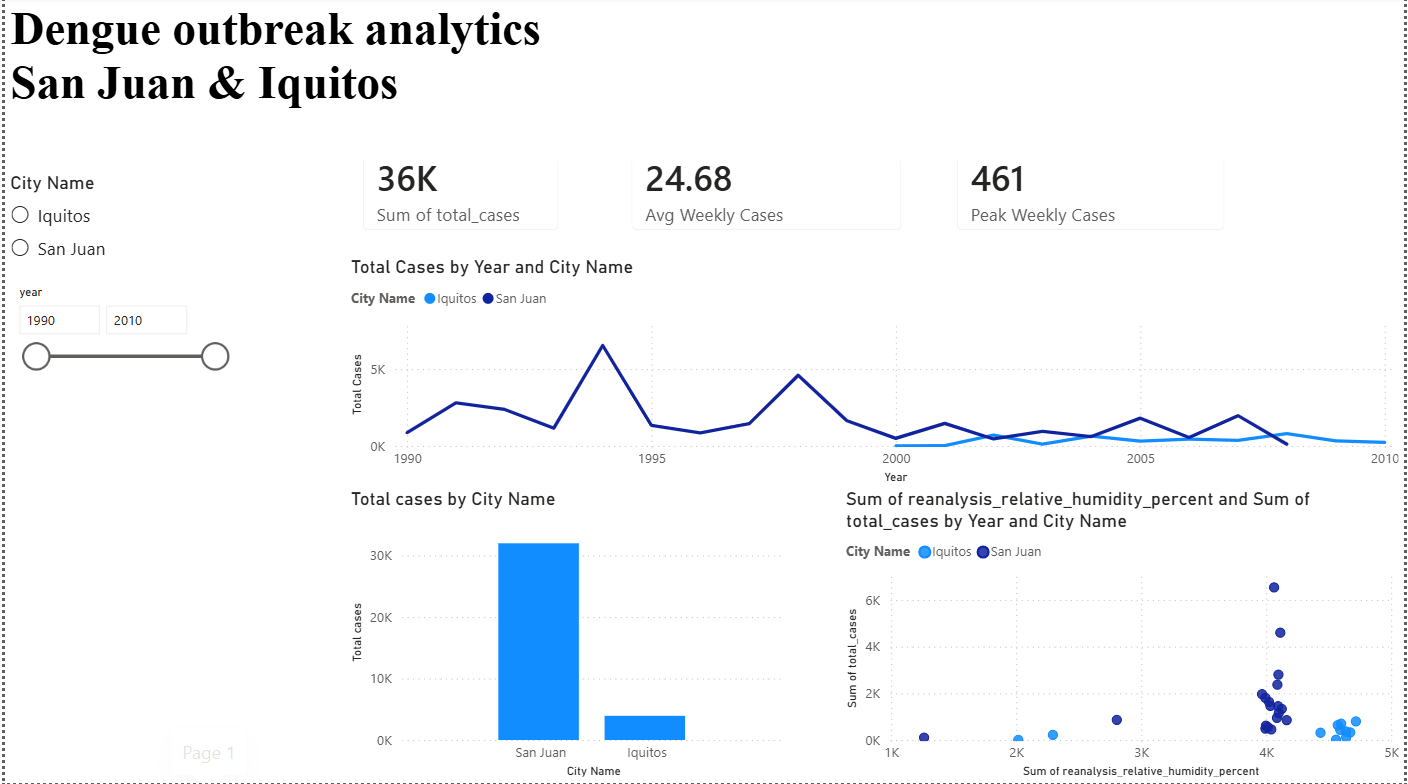

This screenshot's page, from the dashboard's own definition file:
{"tool":"powerbi","page":{"name":"Page 1","canvas":[1280,720],"ordinal":0},"visuals":[{"type":"cardVisual","fields":{"Data":["Merge1.Avg Weekly Cases"]},"box":[555.1,121.3,281.2,110.3],"z":0},{"type":"cardVisual","fields":{"Data":["Merge1.Peak Weekly Cases"]},"box":[852.9,121.3,279.4,110.3],"z":1000},{"type":"lineChart","fields":{"Category":["Merge1.week_start_date.Variation.Date Hierarchy.Year","Merge1.week_start_date.Variation.Date Hierarchy.Quarter","Merge1.week_start_date.Variation.Date Hierarchy.Month","Merge1.week_start_date.Variation.Date Hierarchy.Day"],"Y":["Merge1.Total Cases"],"Series":["Merge1.City Name"]},"box":[311,237.9,968.4,212.9],"z":2000},{"type":"listSlicer","fields":{"Values":["Merge1.City Name"]},"box":[0,159.9,213.2,93.7],"z":3000},{"type":"slicer","fields":{"Values":["Merge1.year"]},"box":[0,259.2,213.2,101.1],"z":3001},{"type":"cardVisual","fields":{"Data":["Sum(Merge1.total_cases)"]},"box":[310.7,121.3,213.2,110.3],"z":3002},{"type":"textbox","box":[0,0,1279.4,150.7],"z":3003},{"type":"columnChart","fields":{"Y":["Sum(Merge1.total_cases)"],"Category":["Merge1.City Name"]},"box":[311,450.8,407,269.2],"z":3004},{"type":"scatterChart","fields":{"Y":["Sum(Merge1.total_cases)"],"X":["Sum(Merge1.reanalysis_relative_humidity_percent)"],"Series":["Merge1.City Name"],"Category":["Merge1.week_start_date.Variation.Date Hierarchy.Year","Merge1.week_start_date.Variation.Date Hierarchy.Quarter","Merge1.week_start_date.Variation.Date Hierarchy.Month","Merge1.week_start_date.Variation.Date Hierarchy.Day"]},"box":[763.8,450.8,515.5,269.2],"z":3005}]}

Visuals, with their boxes in screenshot pixels (x1, y1, x2, y2), scaled from the page's 1280x720 canvas onto the 1408x784 screenshot:
cardVisual - Merge1.Avg Weekly Cases: crop(611, 132, 920, 252)
cardVisual - Merge1.Peak Weekly Cases: crop(938, 132, 1246, 252)
lineChart - Merge1.week_start_date.Variation.Date Hierarchy.Year x Merge1.week_start_date.Variation.Date Hierarchy.Quarter: crop(342, 259, 1407, 491)
listSlicer - Merge1.City Name: crop(0, 174, 235, 276)
slicer - Merge1.year: crop(0, 282, 235, 392)
cardVisual - Sum(Merge1.total_cases): crop(342, 132, 576, 252)
textbox: crop(0, 0, 1407, 164)
columnChart - Sum(Merge1.total_cases) x Merge1.City Name: crop(342, 491, 790, 783)
scatterChart - Sum(Merge1.total_cases) x Sum(Merge1.reanalysis_relative_humidity_percent): crop(840, 491, 1407, 783)
